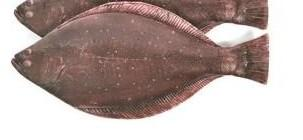fish: (11, 2, 269, 119)
